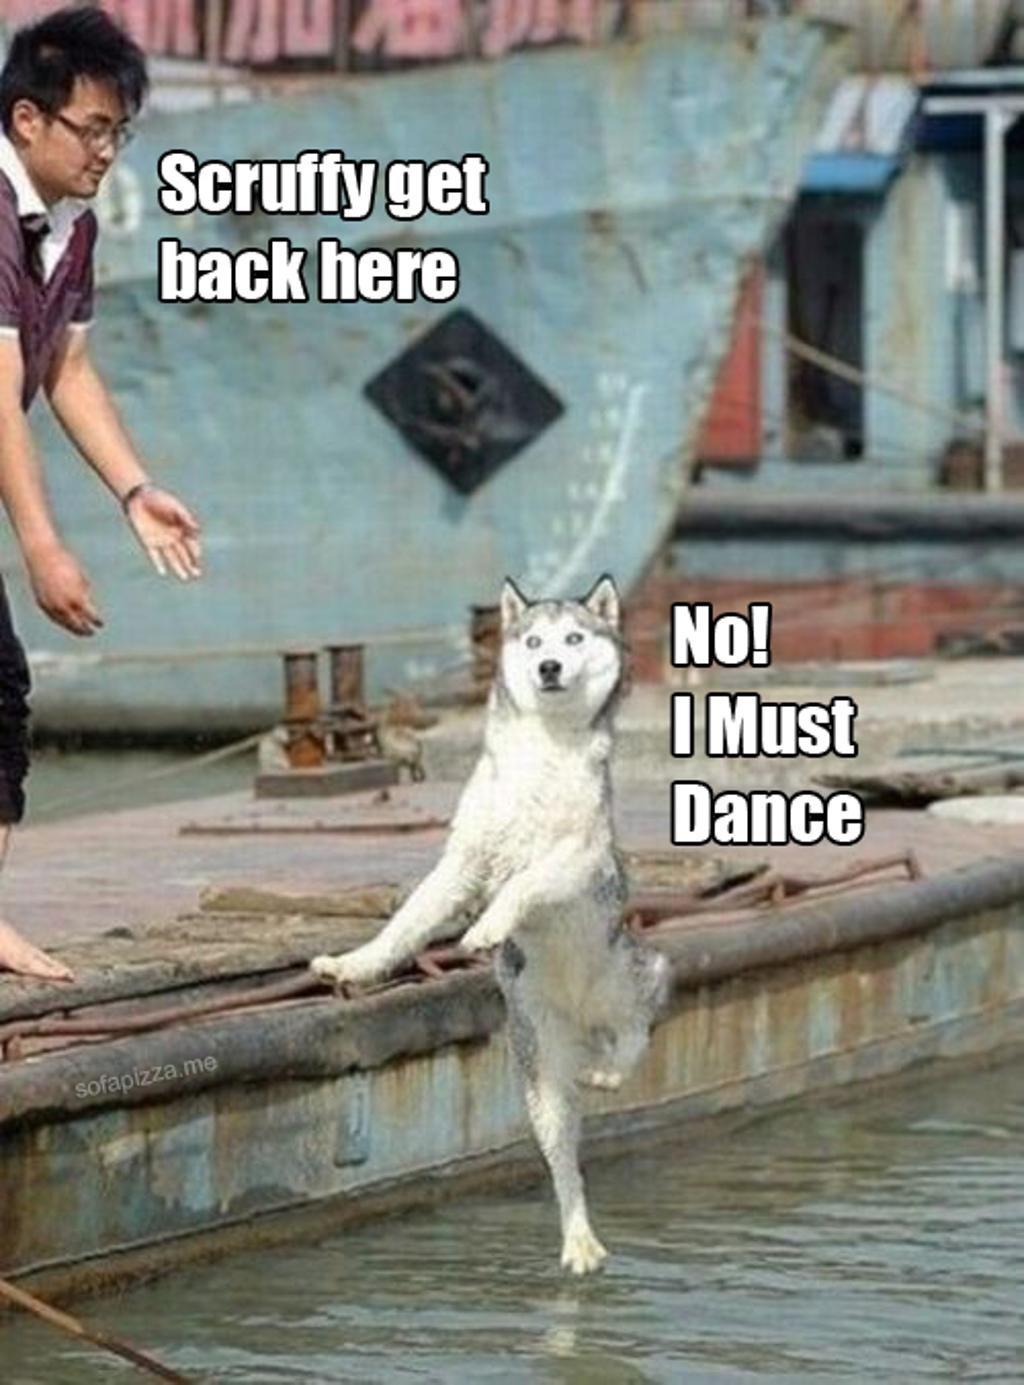face: (46, 62, 124, 197)
